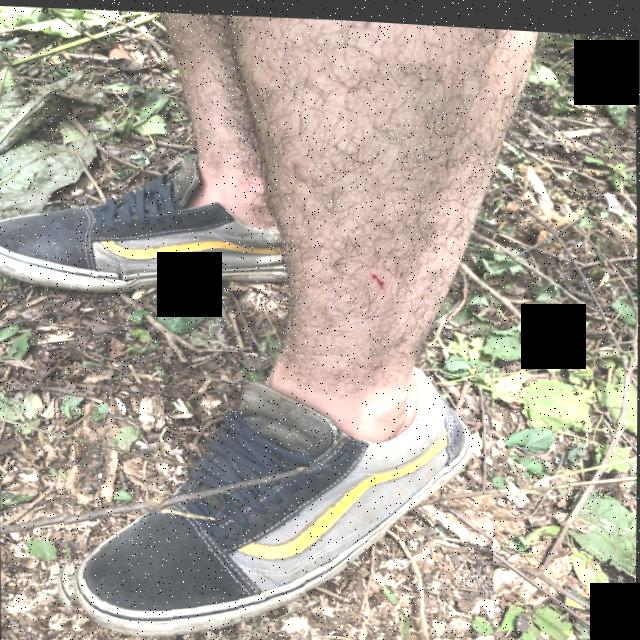shoe: (49, 336, 497, 640), (0, 133, 305, 316)
